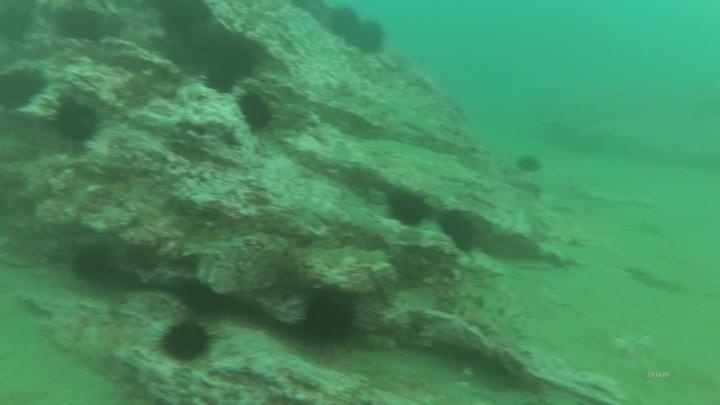echinus: (294, 286, 365, 353), (156, 317, 216, 365), (49, 96, 103, 147), (1, 63, 48, 113), (155, 1, 214, 40), (53, 4, 108, 45), (69, 241, 118, 286), (436, 209, 480, 254), (384, 187, 431, 229), (234, 88, 276, 135), (178, 278, 225, 318), (225, 35, 268, 78), (324, 5, 363, 43), (351, 17, 388, 57), (201, 63, 241, 96), (514, 152, 545, 177)
